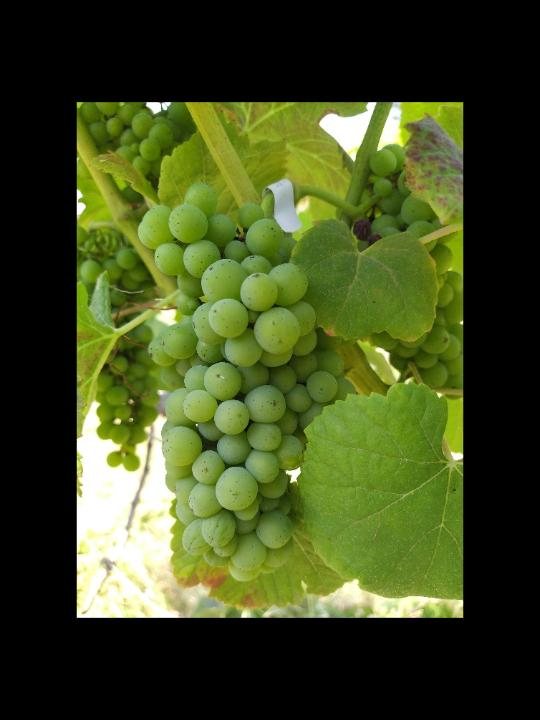grape: (138, 180, 356, 586)
